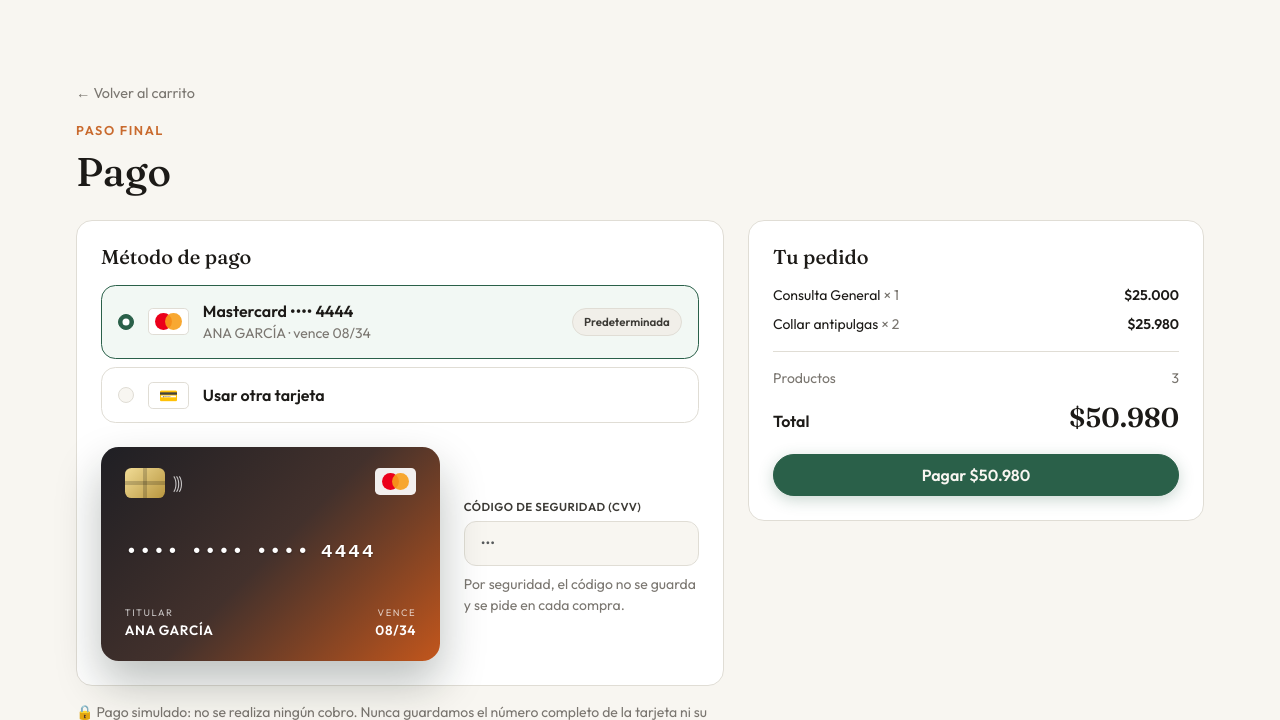
it: Pago (pago con tarjeta contra la API) › con una tarjeta guardada la elige por defecto y solo pide el código de seguridad
The width and height of the screenshot is (1280, 720).
Expected: the radio button labelled "Mastercard •••• 4444 ANA GARCÍA · vence 08/34 Predeterminada" is checked, [118,314,134,330]
Step 1. Click the button "Pagar $50.980" → (976, 475), box [773,454,1179,496]
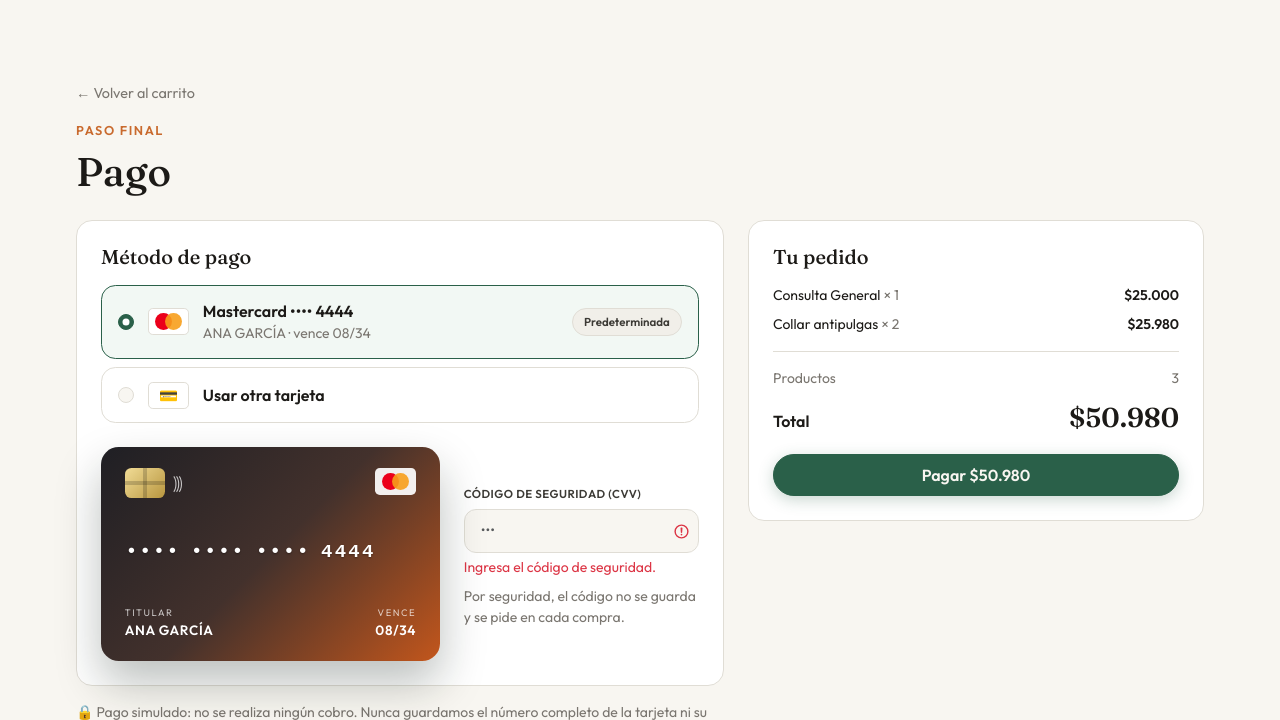
Now the text "Ingresa el código de seguridad." is shown, box [464,558,656,576]
Step 2. Type "456" into the password field labelled "Código de seguridad (CVV)" → (581, 531), box [464,509,699,553]
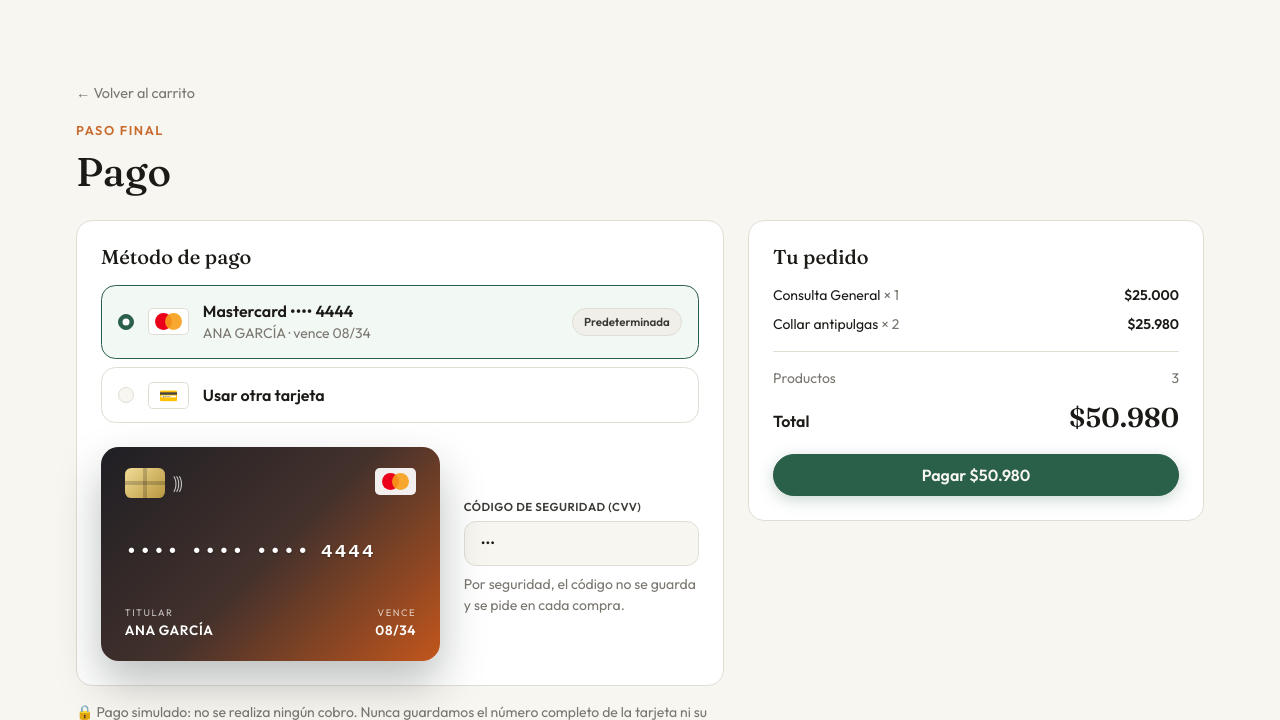
Step 3. Click the button "Pagar $50.980" → (976, 475), box [773,454,1179,496]
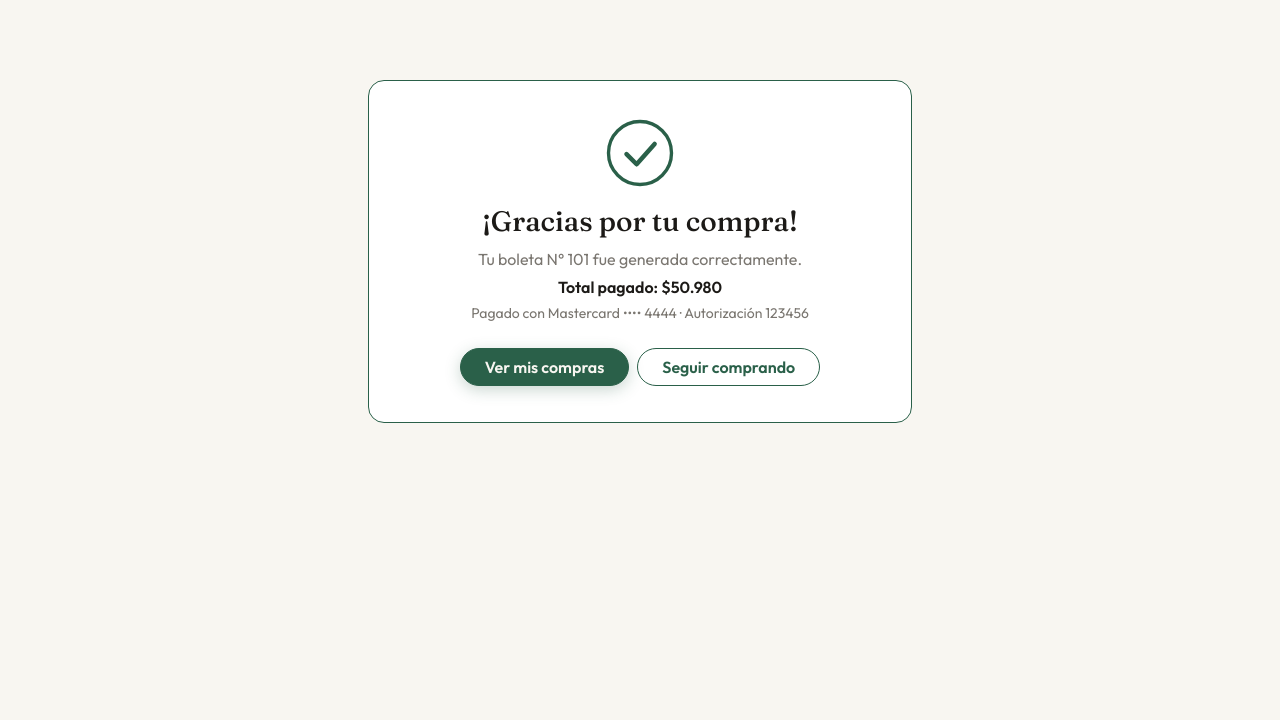
Now the heading "¡Gracias por tu compra!" is shown, box [482,204,798,238]
